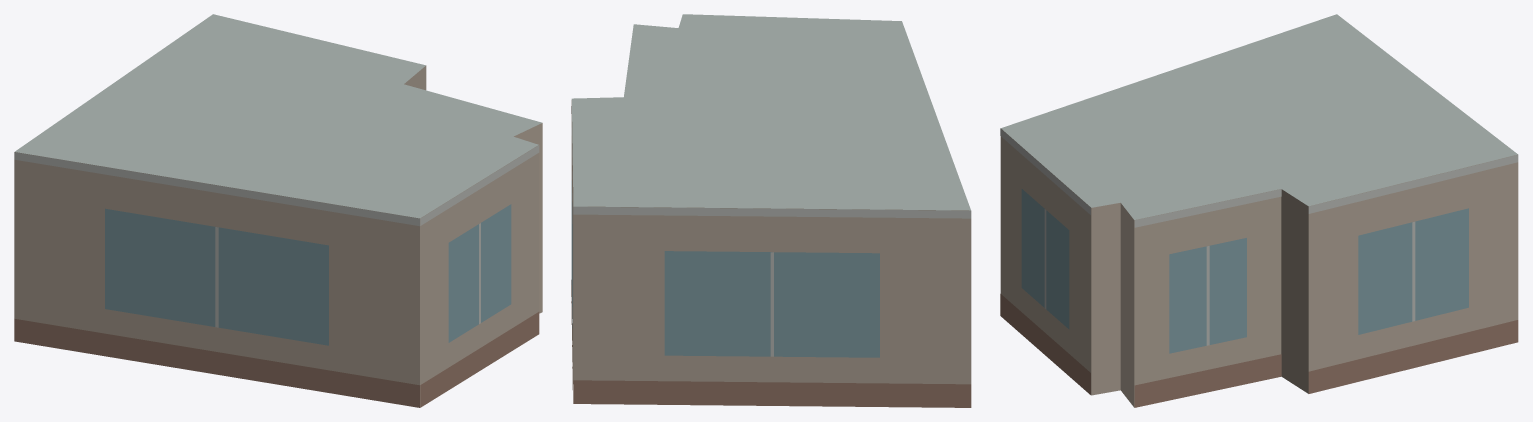
The model's file is survey-upis-32825778.glb.
The picture shows the model from 3 angles, left to right: view 1: azimuth 30°, elevation 25°; view 2: azimuth 150°, elevation 25°; view 3: azimuth 270°, elevation 25°; orthographic projection. The views are drawn at different scales.
Visible parts, largest first — view 1: survey-upis-32825778.tmp; view 2: survey-upis-32825778.tmp; view 3: survey-upis-32825778.tmp.
Boxes of the visible parts, x1,y1,x2,y2 form: survey-upis-32825778.tmp: (14,14,542,407); survey-upis-32825778.tmp: (571,14,971,407); survey-upis-32825778.tmp: (1000,14,1518,407).
Size of the model in its own units: 7.19 by 3.05 by 7.63.
